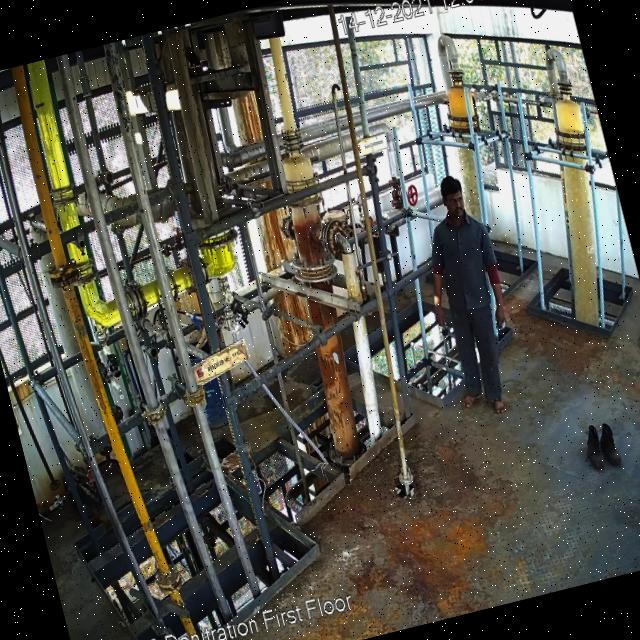boots: (579, 420, 612, 473), (596, 421, 624, 466)
no-boots: (456, 390, 484, 410), (488, 396, 508, 419)
